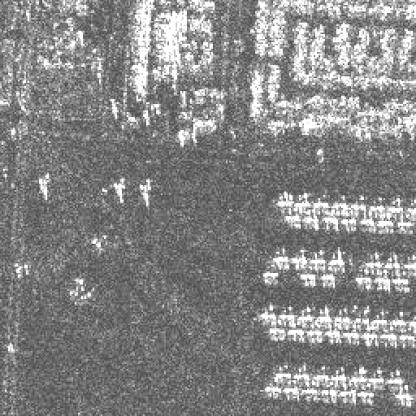airplane: (362, 252, 384, 276), (383, 252, 403, 276), (325, 247, 345, 270), (294, 190, 312, 215), (385, 369, 406, 390), (387, 310, 408, 330), (310, 195, 330, 215), (366, 198, 386, 218), (281, 210, 302, 229), (369, 310, 387, 332), (330, 198, 349, 218), (276, 190, 294, 211), (350, 195, 366, 218), (387, 197, 406, 216), (367, 367, 385, 387), (350, 366, 368, 386), (271, 366, 291, 384), (350, 312, 370, 330), (315, 304, 332, 325), (320, 214, 340, 231), (292, 366, 310, 384), (278, 304, 296, 322), (296, 304, 314, 322), (270, 250, 288, 268), (307, 254, 325, 272), (302, 213, 320, 231), (396, 216, 414, 234), (333, 309, 349, 328), (392, 278, 411, 294), (377, 214, 393, 233), (312, 367, 328, 385), (378, 333, 396, 349), (289, 254, 307, 270), (393, 392, 413, 406), (284, 327, 304, 341), (298, 273, 316, 288), (318, 273, 336, 288), (352, 276, 370, 291), (374, 276, 392, 291), (323, 330, 343, 343), (330, 369, 346, 385), (341, 216, 358, 231), (306, 330, 324, 344), (336, 390, 354, 403), (360, 333, 378, 346), (356, 388, 375, 400), (398, 334, 414, 348), (258, 304, 274, 318), (262, 384, 280, 396), (260, 272, 278, 284), (268, 327, 283, 341), (283, 385, 299, 398), (359, 216, 375, 229), (343, 332, 359, 344), (301, 387, 317, 398), (319, 388, 333, 400), (413, 392, 414, 406)
